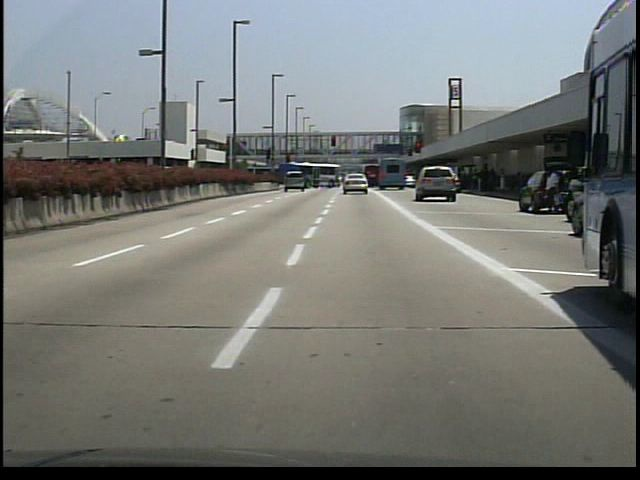person: (542, 167, 561, 212)
